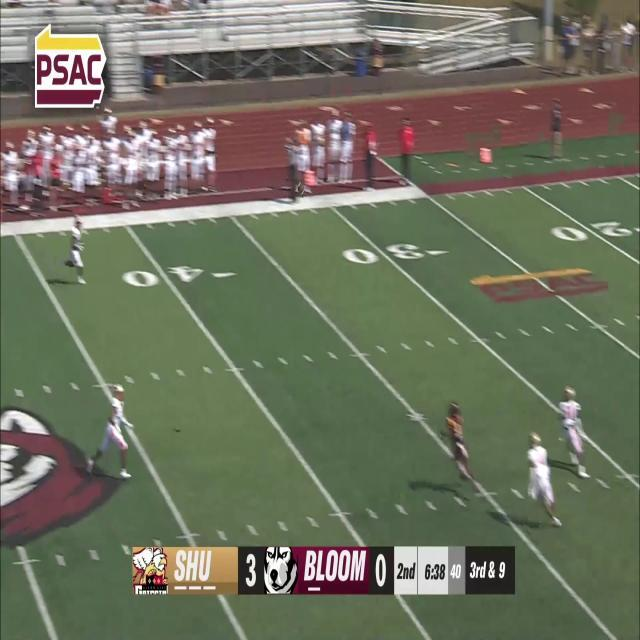football: (296, 180, 306, 197)
